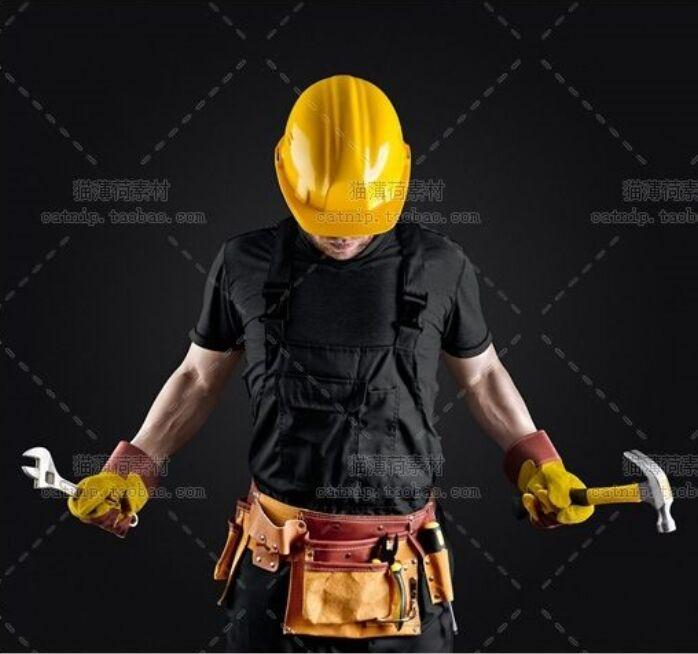helmet: (272, 73, 418, 236)
